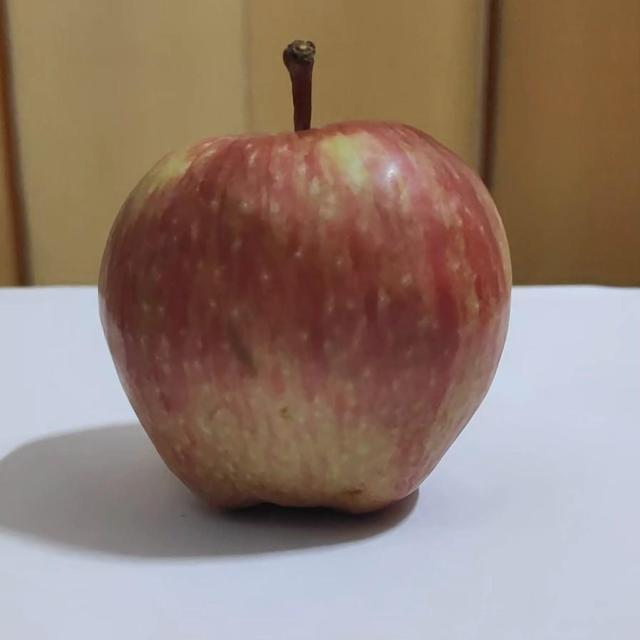Apple: (99, 41, 512, 512)
